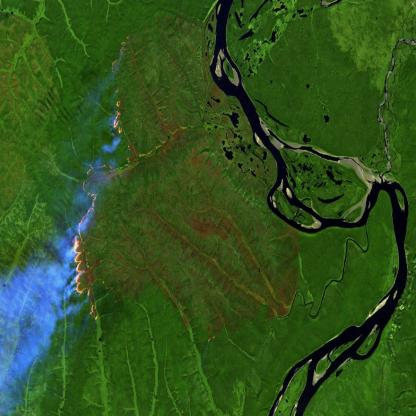fire: (65, 95, 130, 328)
